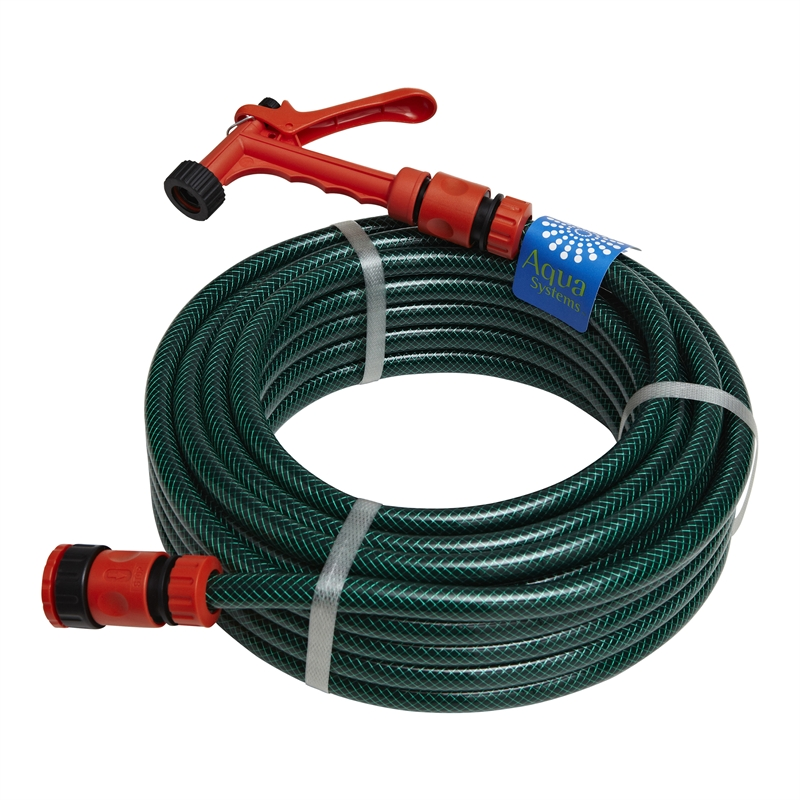Nonrec_Tangler: (26, 63, 759, 710)
